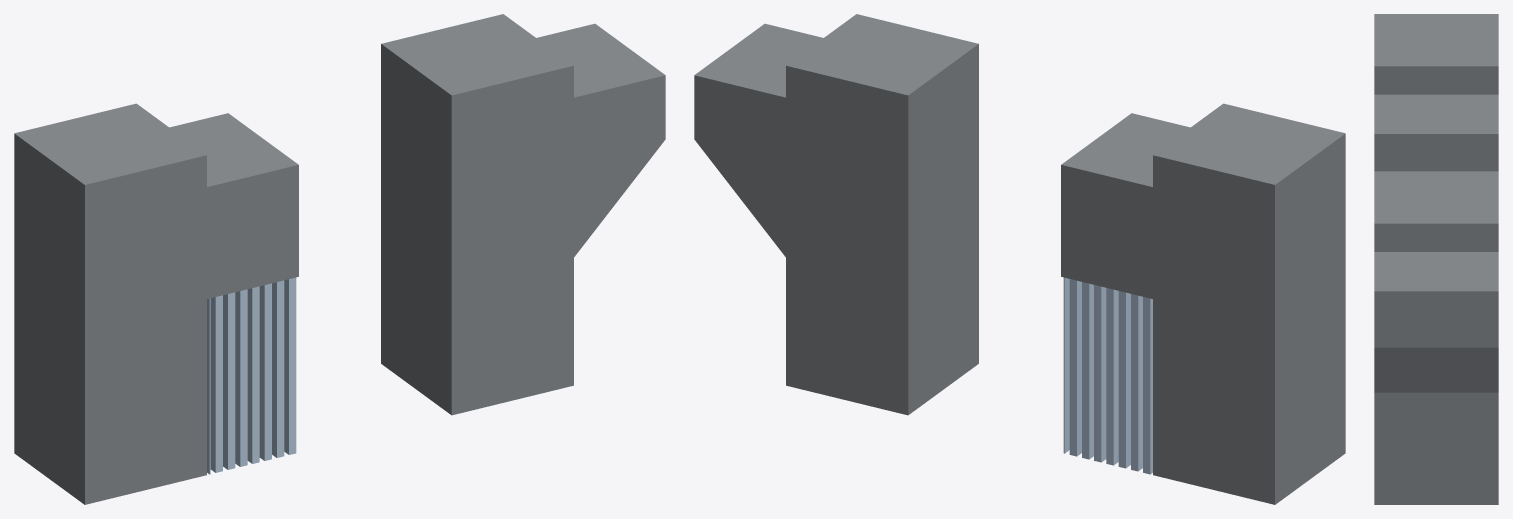
The model's file is ueberhang-vergleich.glb.
The picture shows the model from 3 angles, left to right: view 1: azimuth 30°, elevation 25°; view 2: azimuth 150°, elevation 25°; view 3: azimuth 270°, elevation 25°; orthographic projection. The views are drawn at different scales.
Parts seen in each view (by area): view 1: _label_With Support, _label_No_Support, _ann_Support; view 2: _label_With Support, _label_No_Support, _ann_Support; view 3: _label_No_Support, _label_With Support.
Boxes of the visible parts, left/top/right/bottom form: _label_With Support: left=14, top=103, right=298, bottom=504; _label_No_Support: left=381, top=14, right=665, bottom=415; _ann_Support: left=207, top=277, right=296, bottom=474; _label_With Support: left=1061, top=103, right=1345, bottom=504; _label_No_Support: left=694, top=14, right=978, bottom=415; _ann_Support: left=1063, top=277, right=1152, bottom=474; _label_No_Support: left=1374, top=171, right=1498, bottom=504; _label_With Support: left=1374, top=14, right=1498, bottom=171.
Size of the model in its own units: 0.19 by 0.1 by 0.04.
